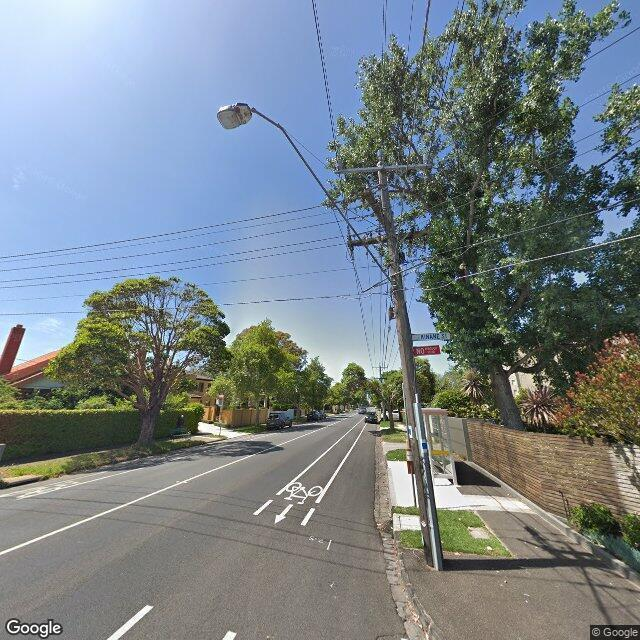HV-transmission: (336, 149, 429, 169)
crossarm: (362, 190, 404, 261), (348, 227, 430, 246), (334, 164, 432, 174), (372, 366, 388, 368)
streetlight: (217, 102, 395, 285)
timber-pole: (377, 161, 443, 568), (380, 365, 381, 379)
